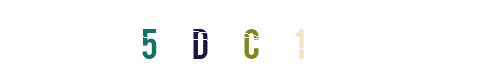1: (210, 0, 290, 80)
5: (136, 0, 216, 80)
C: (200, 0, 280, 80)
D: (163, 0, 243, 80)
